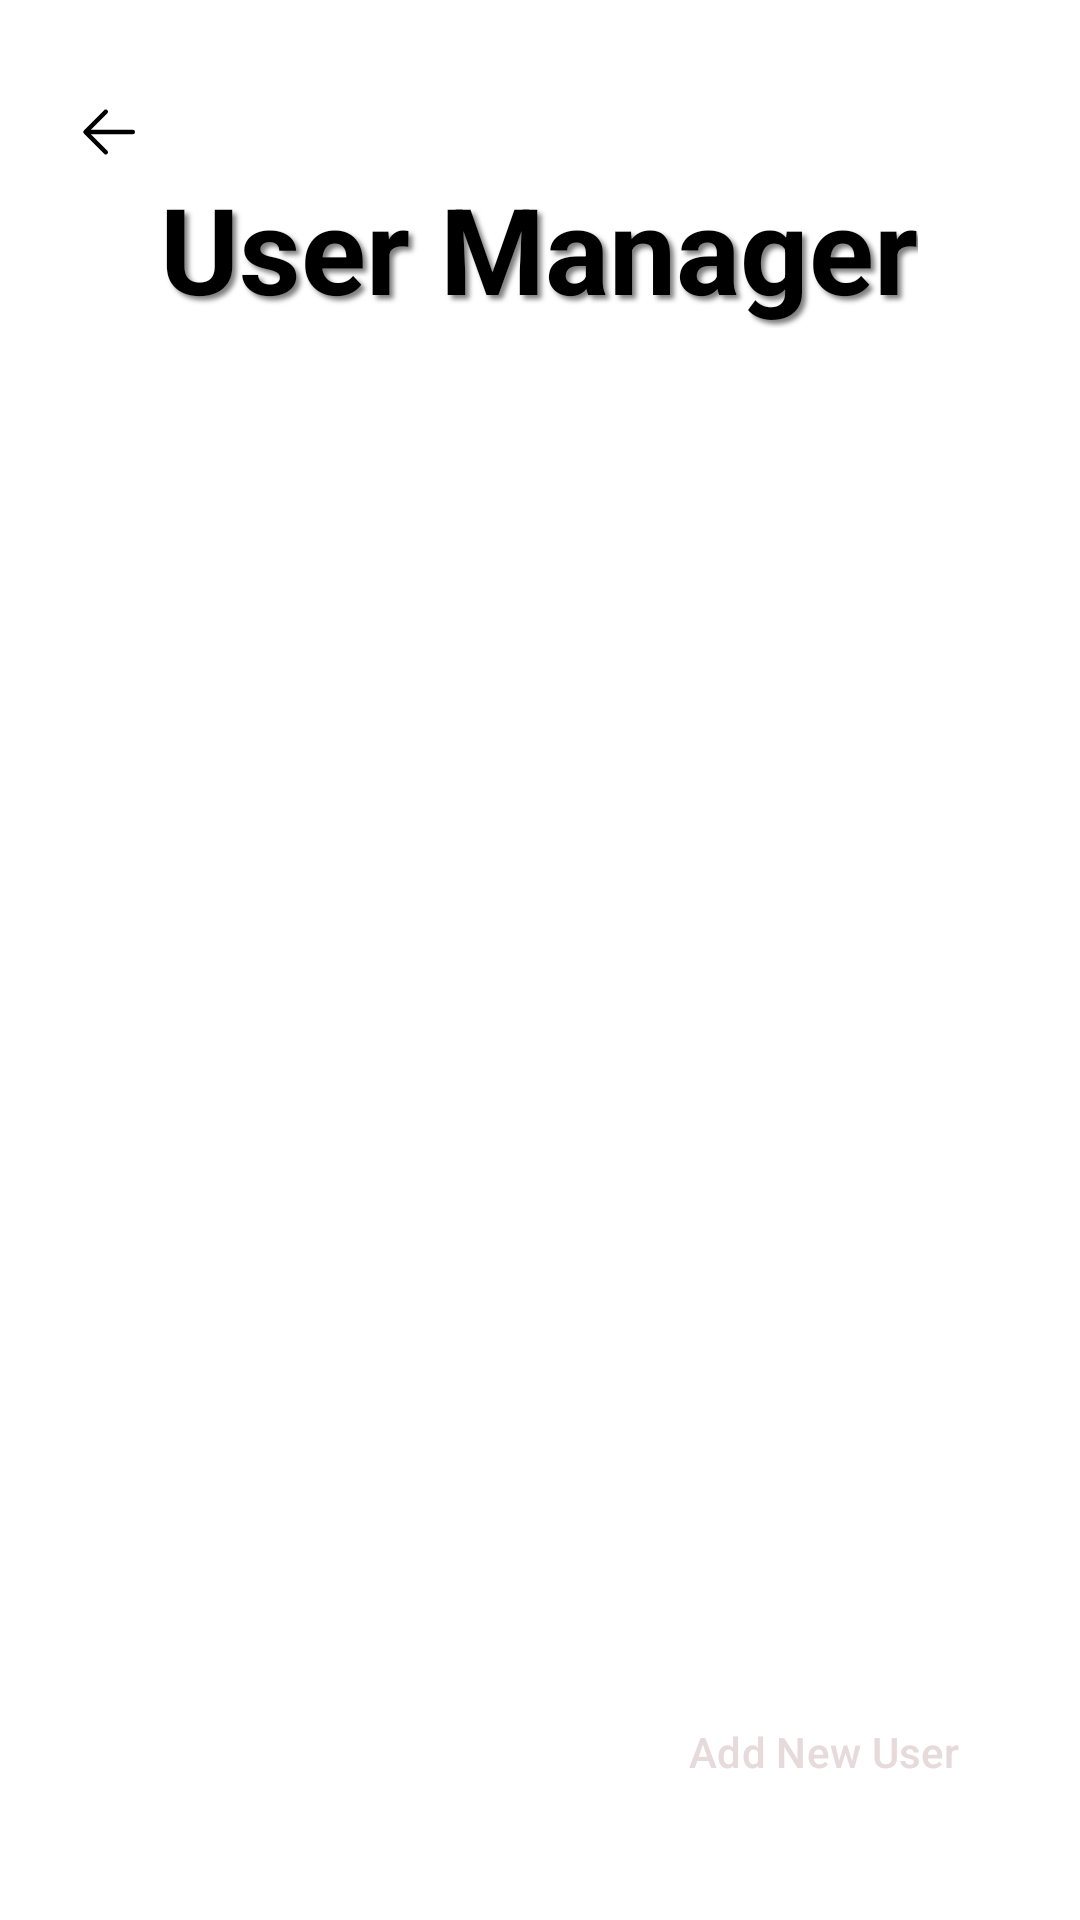

Icon click points for this 1080×1920 phone screenshot, format [x,y]:
Back: [109,132]
